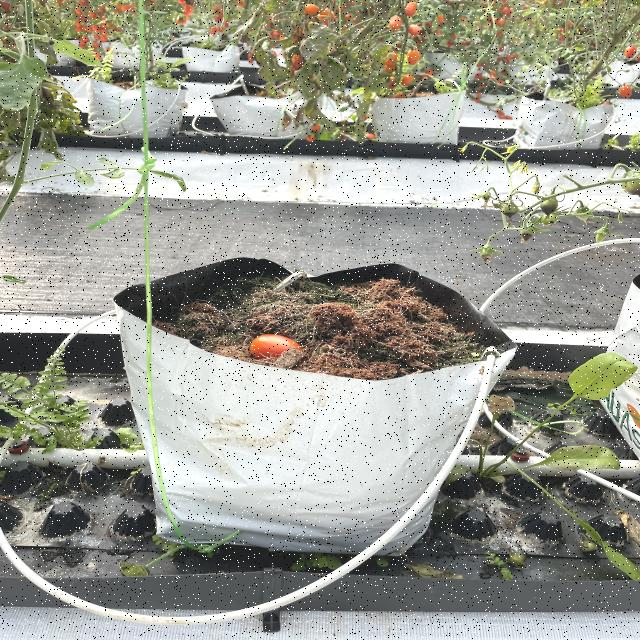Soilbag: (116, 260, 517, 555)
